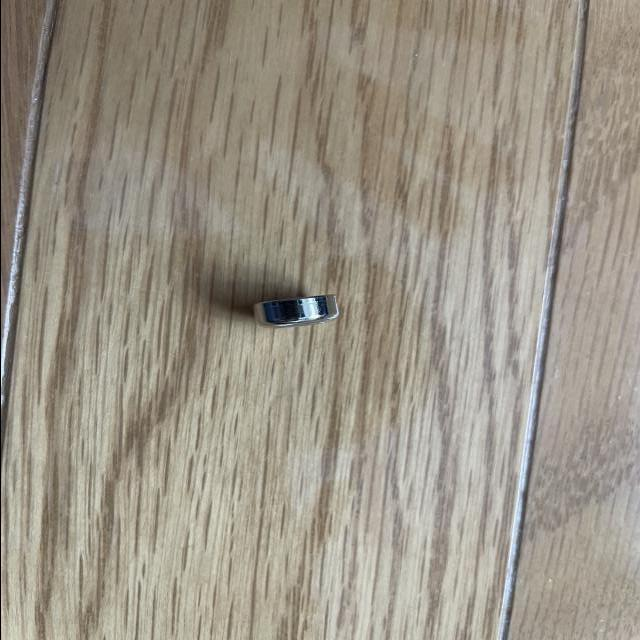COIN: (250, 288, 348, 334)
